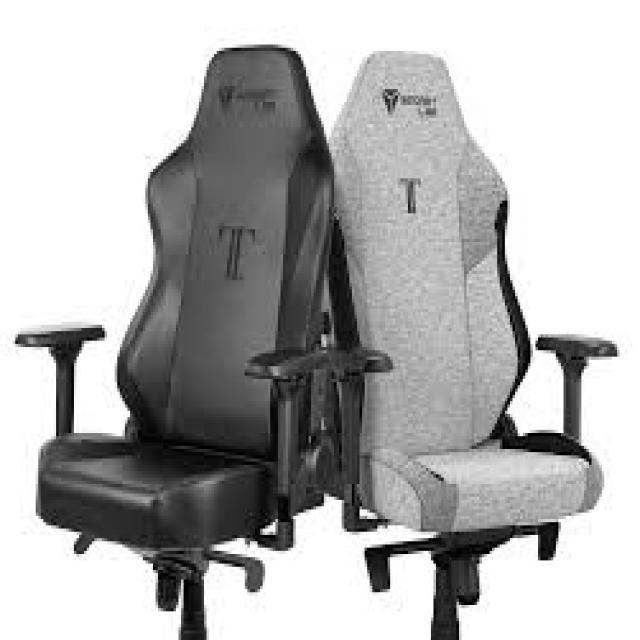chair: (12, 41, 339, 640), (316, 48, 620, 640)
